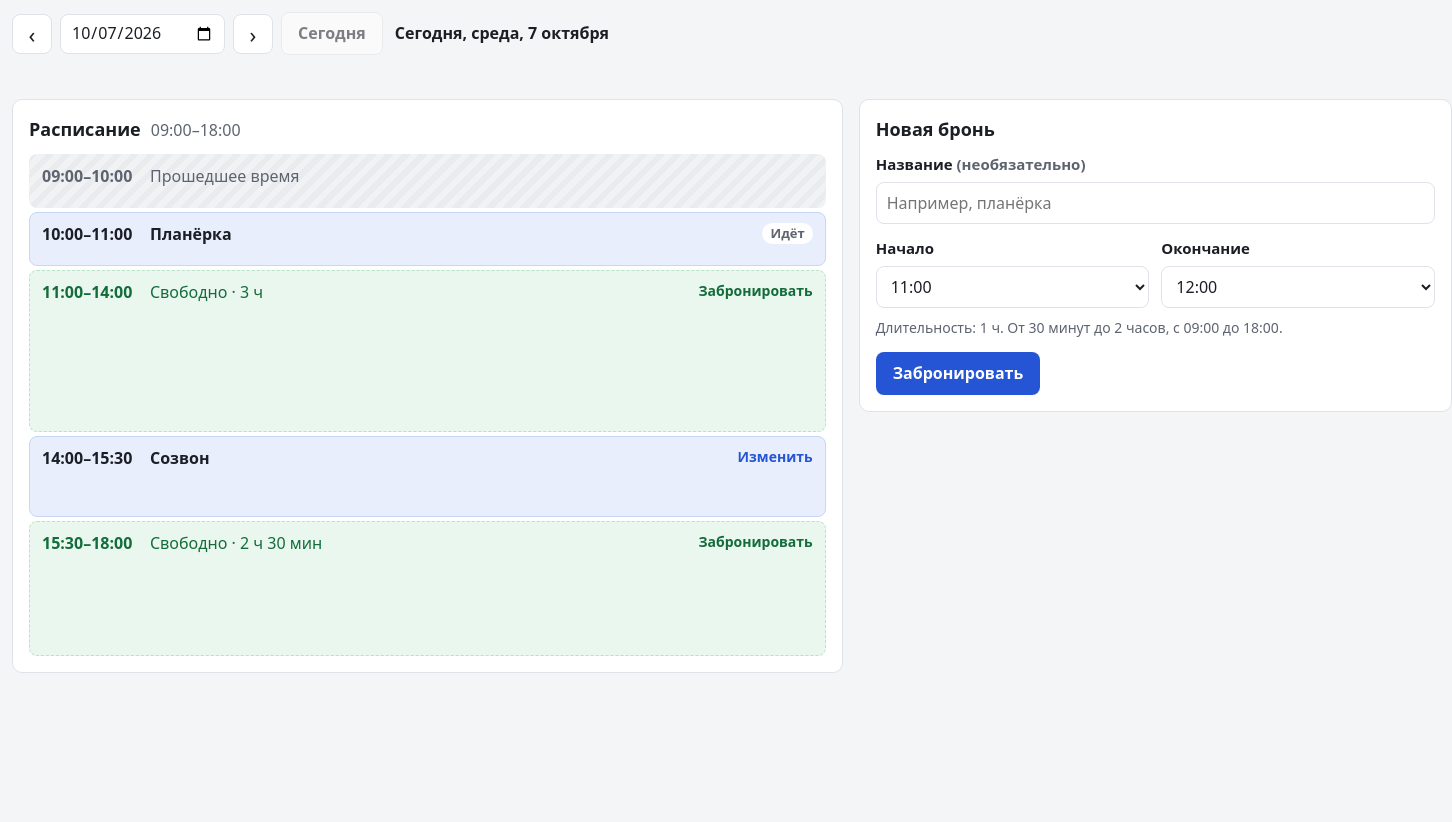
BookingsPage › keeps the form and refreshes the list when the server reports a conflict
Click the button with aria-label "Свободно 11:00–14:00. Забронировать" at (87, 292), box [29, 270, 826, 432]
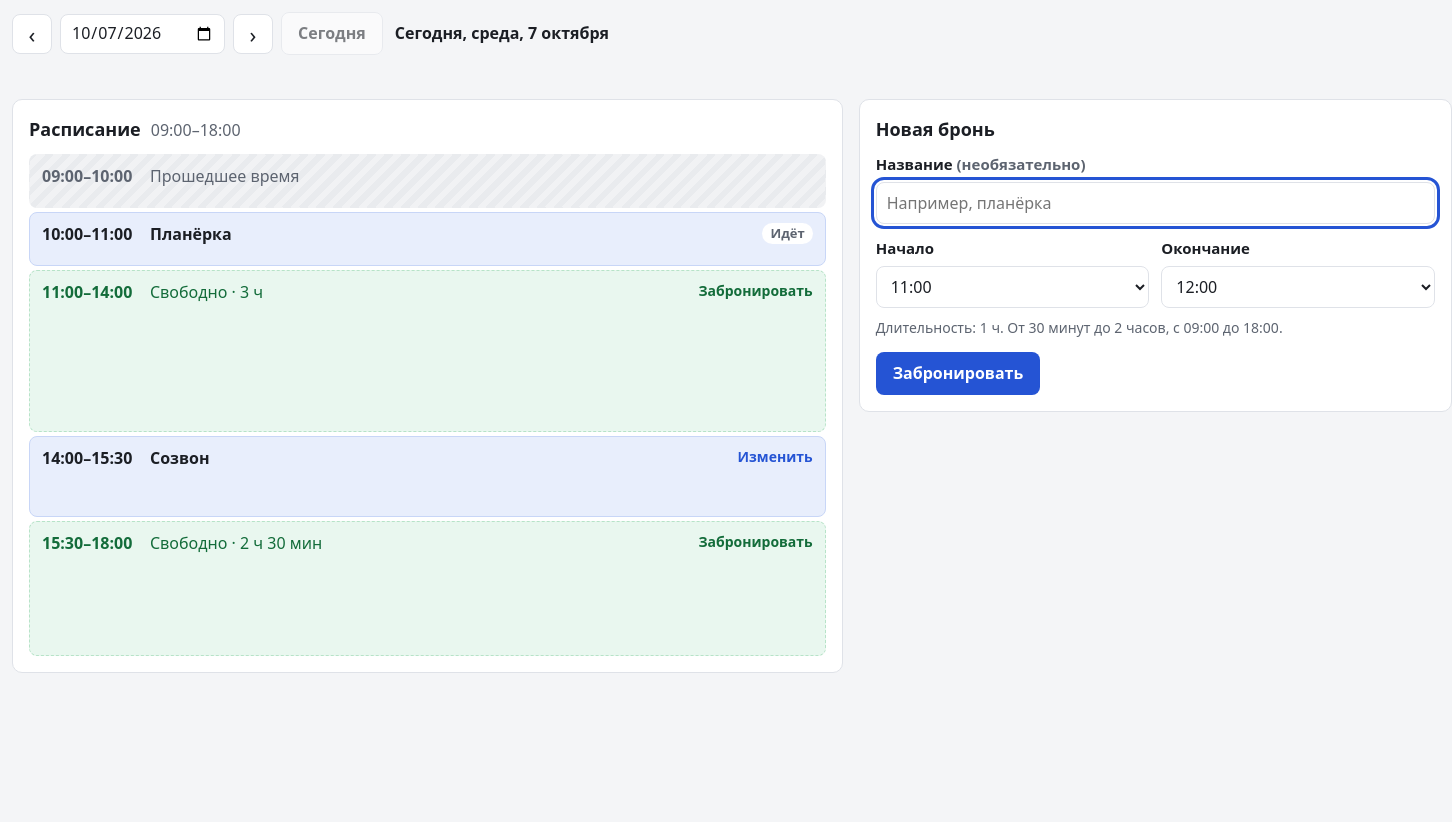
Type "Ретро" into the field labelled "Название (необязательно)" at (1155, 203), box [876, 182, 1435, 224]
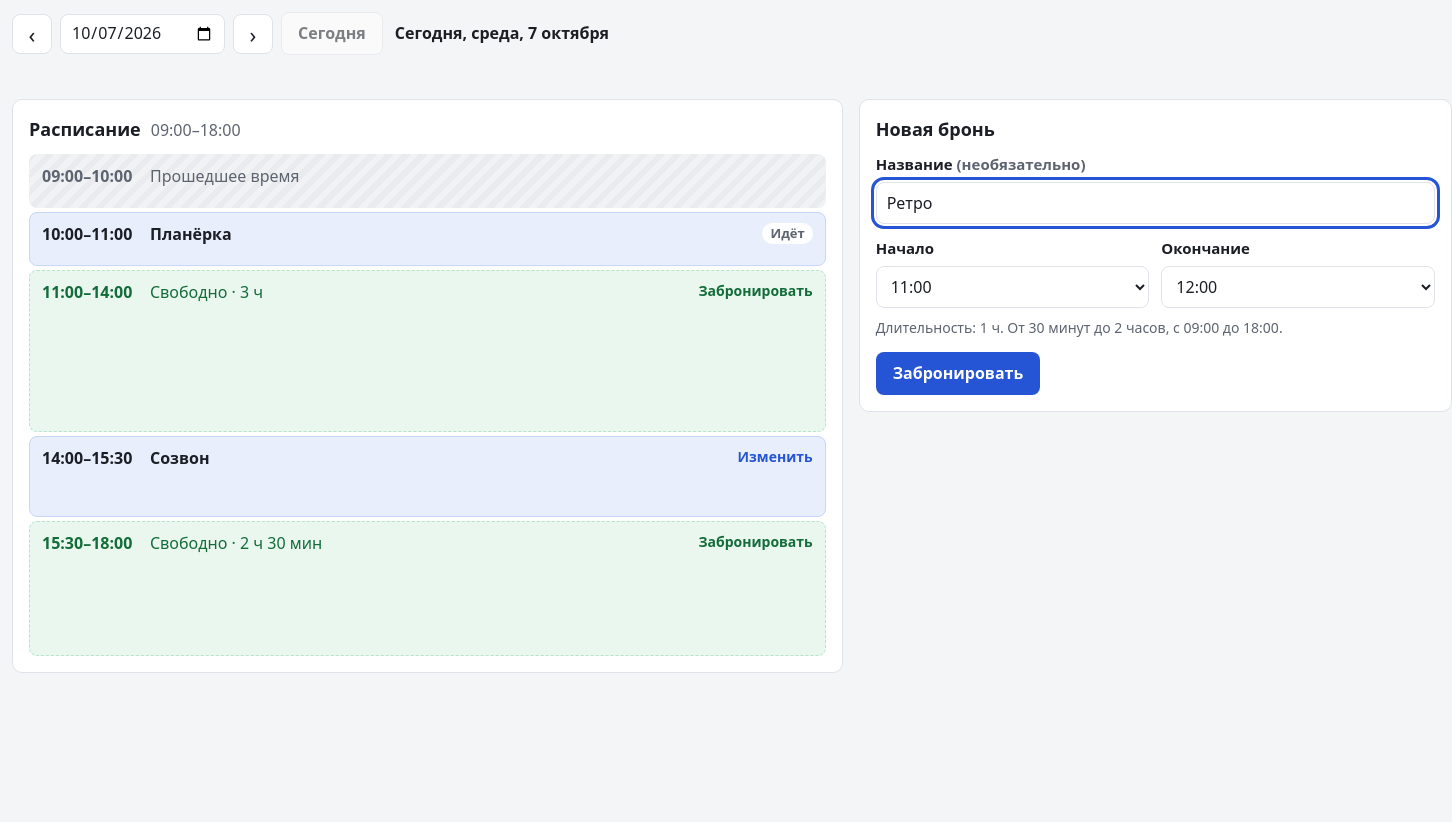
Click the button "Забронировать" at (958, 374), box [876, 352, 1040, 395]
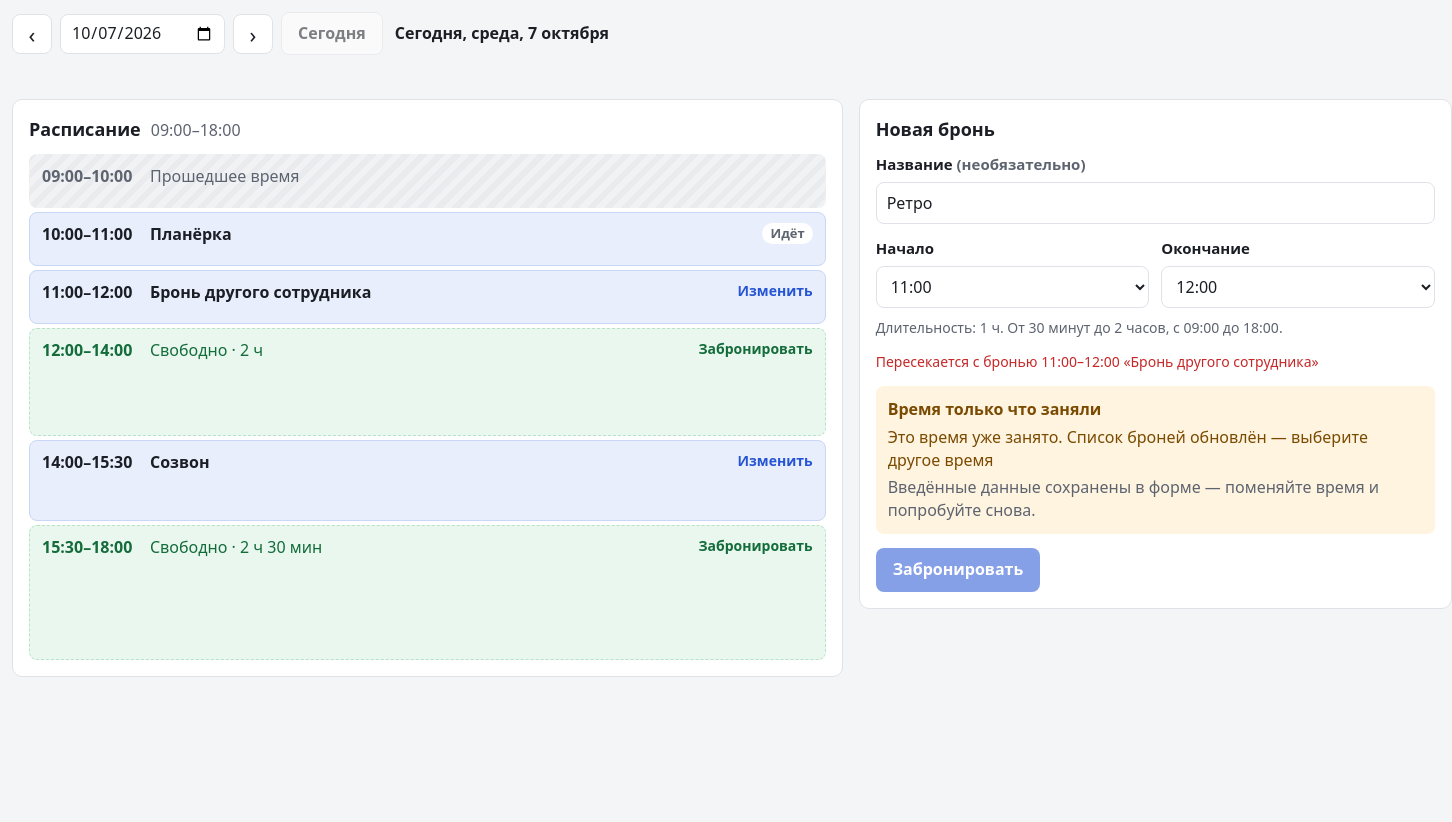
expect the dropdown labelled "Начало" shows "11:00": met, box [876, 266, 1149, 308]
expect the text "Время только что заняли" is shown: met, box [888, 398, 1101, 420]
expect the text "Бронь другого сотрудника" is shown: met, box [150, 281, 371, 303]
